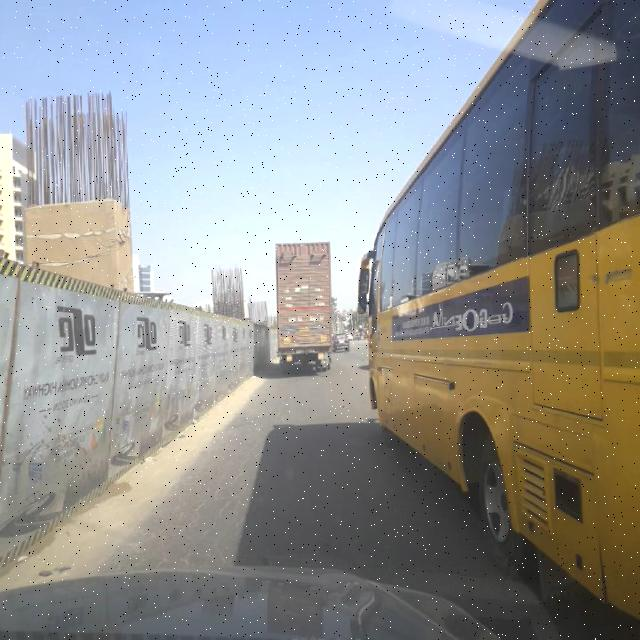D20: (111, 383, 365, 567)
